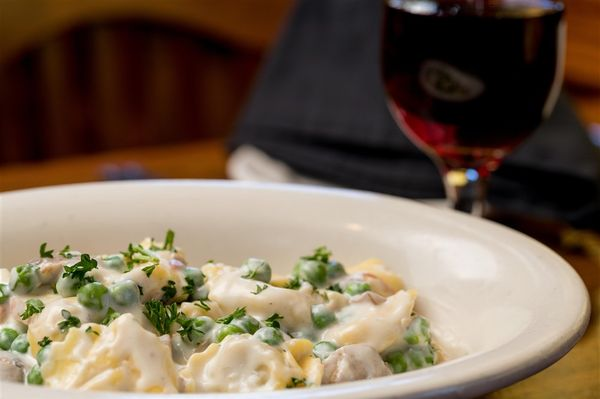curry: (380, 315, 438, 375), (287, 245, 347, 291)
pizza: (377, 1, 568, 219)
sushi: (6, 176, 596, 397)
